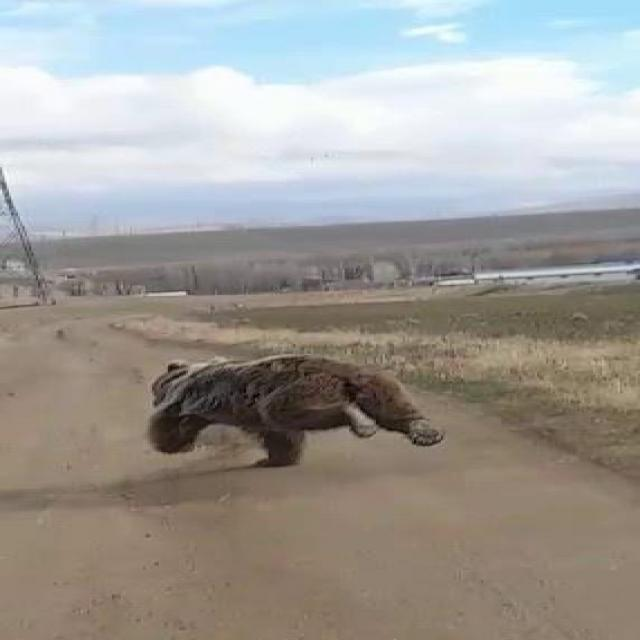Bear: (150, 355, 445, 470)
